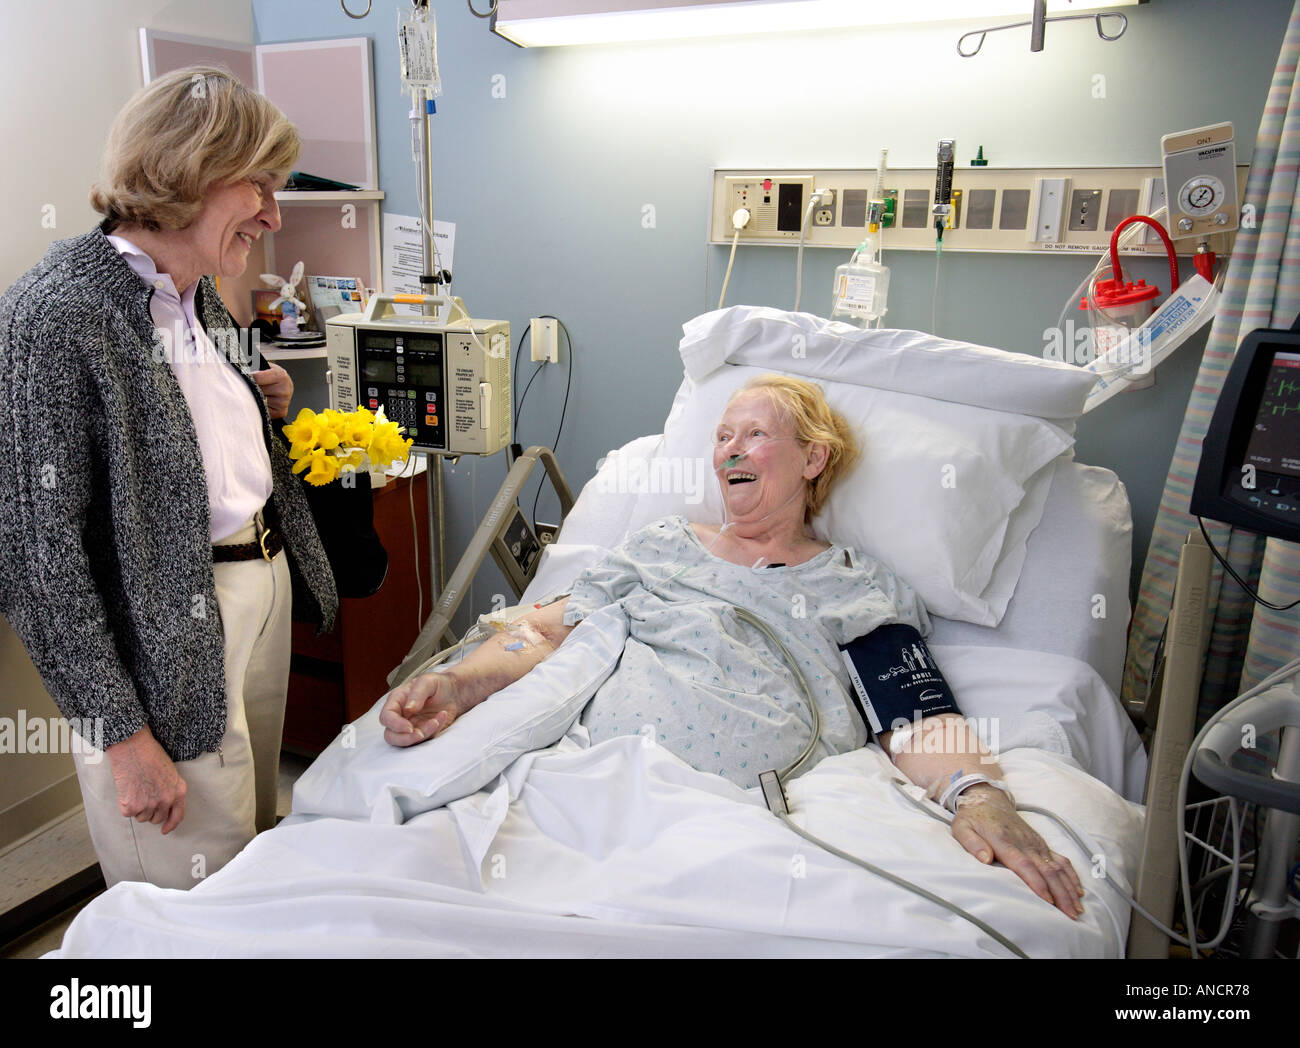visitor: (9, 46, 470, 878)
